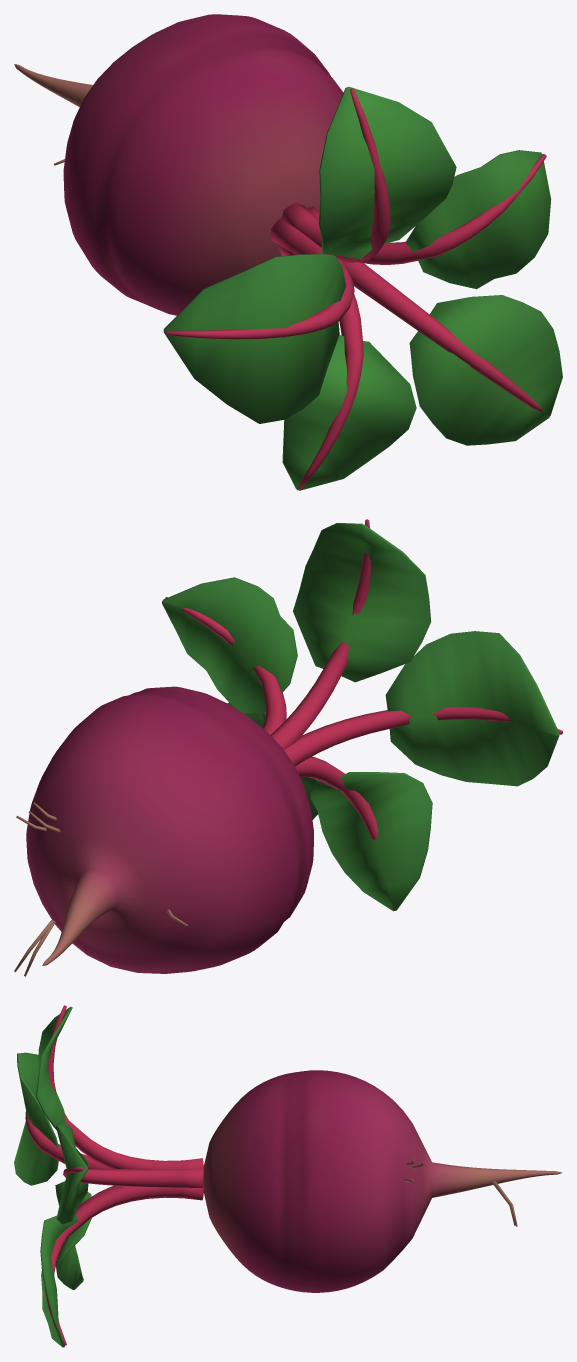
Rendered from beetroot.glb.
3 renders of one model, top to bottom at view 1: azimuth 30°, elevation 25°; view 2: azimuth 150°, elevation 25°; view 3: azimuth 270°, elevation 25°, orthographic. The views are drawn at different scales.
Parts seen in each view (by area): view 1: Beetroot_Leaves, Beetroot_Body, Beetroot_Stalks; view 2: Beetroot_Body, Beetroot_Leaves, Beetroot_Stalks, Beetroot_Hairs; view 3: Beetroot_Body, Beetroot_Leaves, Beetroot_Stalks.
Part boxes in pixels (x1,y1,x2,y2): Beetroot_Leaves: [163, 86, 562, 490]; Beetroot_Body: [14, 14, 343, 315]; Beetroot_Stalks: [166, 88, 546, 489]; Beetroot_Body: [26, 686, 313, 973]; Beetroot_Leaves: [162, 523, 559, 911]; Beetroot_Stalks: [165, 519, 562, 909]; Beetroot_Hairs: [14, 802, 188, 976]; Beetroot_Body: [203, 1070, 562, 1292]; Beetroot_Leaves: [14, 1006, 91, 1347]; Beetroot_Stalks: [25, 1005, 203, 1345].
Bounding box in the file's own units: 0.1183 × 0.1122 × 0.1922.
